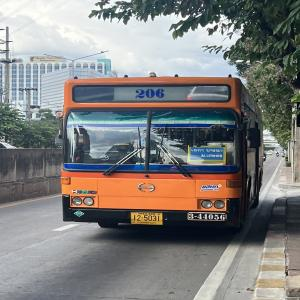BMTA-bus: (61, 75, 266, 234)
Bus Line Number: (129, 87, 169, 100)
Bus Side Number: (187, 210, 229, 222)
Destination Sign: (191, 147, 223, 160)
